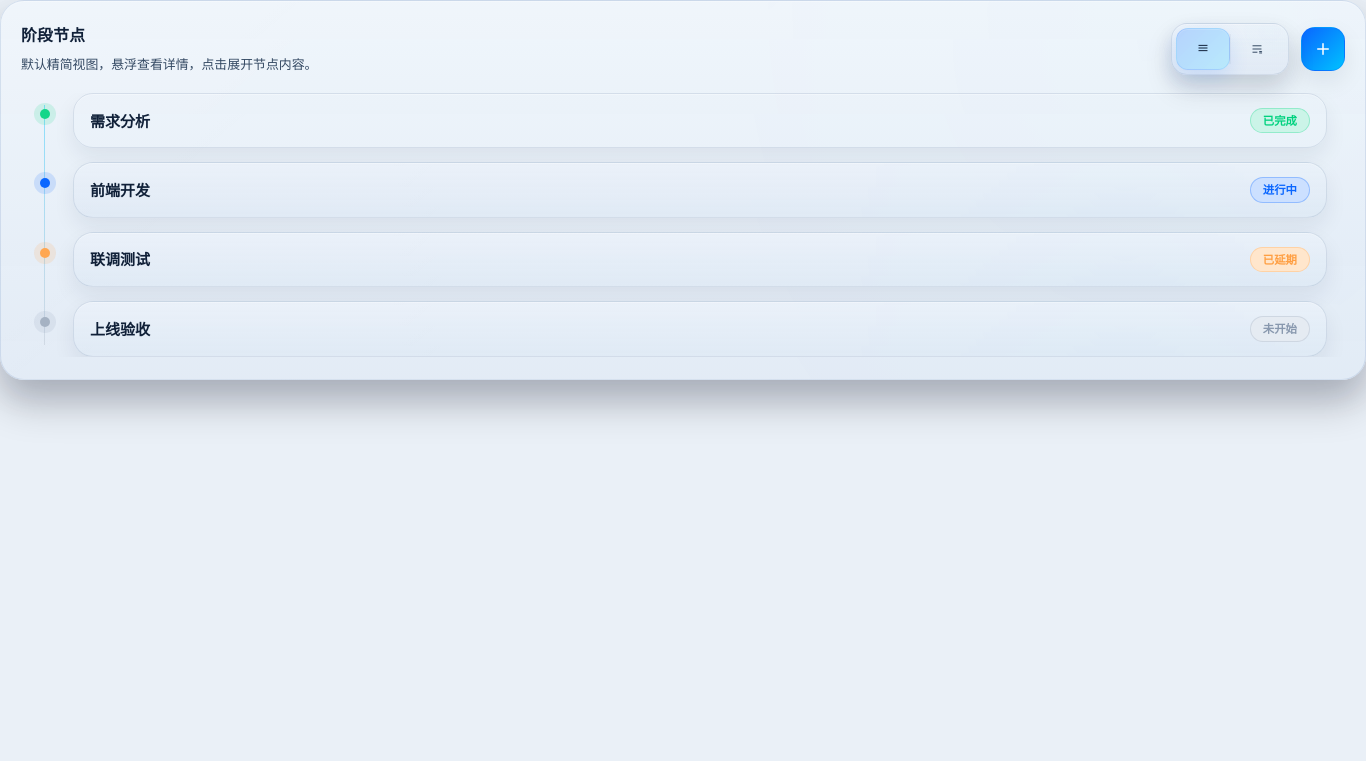
Scenario: NodeRail › defaults to compact cards and allows switching back to the full card layout
Expected: the button with test id "node-item-2002" shows "前端开发", [73, 162, 1327, 218]
Expected: the button with test id "node-item-2002" shows "进行中", [73, 162, 1327, 218]
What coordinates should you click on to do the following:
click the button with test id "node-view-mode-full"
I would click on:
 (1257, 49)
Its box is [1230, 28, 1284, 70].
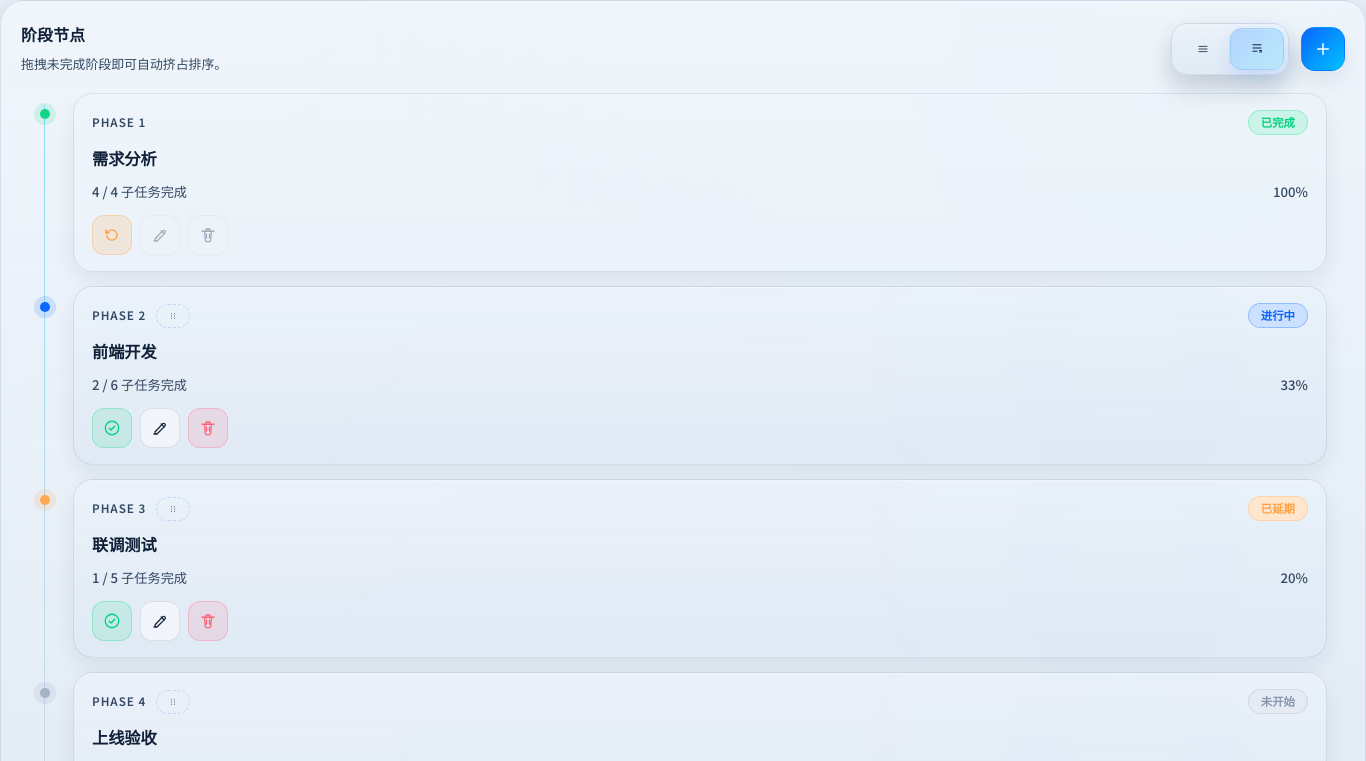
Expected: the button with test id "node-item-2002" shows "Phase 2", [73, 286, 1327, 465]
Expected: the button with test id "node-item-2002" shows "2 / 6 子任务完成", [73, 286, 1327, 465]
Expected: the element with class "node-rail__progress" showing "2 / 6 子任务完成 33%" is shown, [92, 375, 1308, 396]
